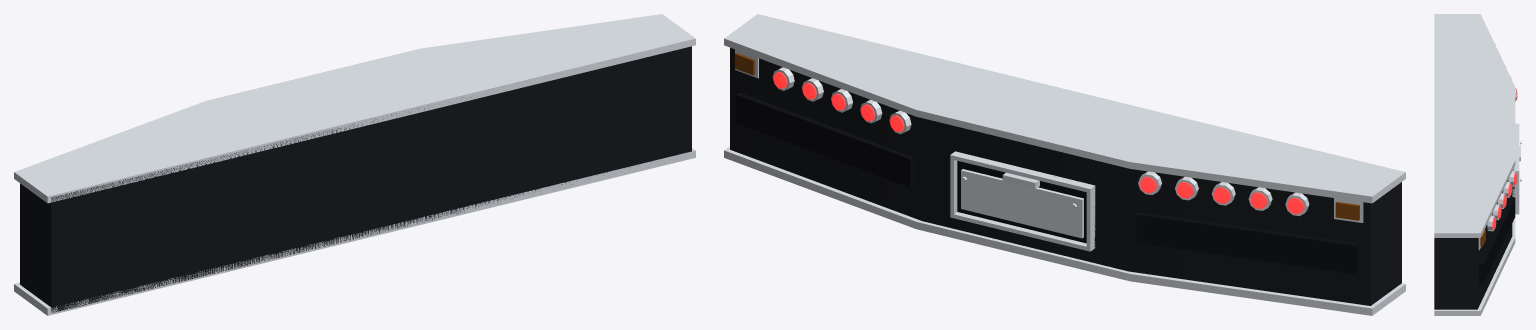
The model's file is fb_fan_red.glb.
3 renders of one model, left to right at view 1: azimuth 30°, elevation 25°; view 2: azimuth 150°, elevation 25°; view 3: azimuth 270°, elevation 25°, orthographic. The views are drawn at different scales.
Parts seen in each view (by area): view 1: fb_fan_red_MID_deco_body, fb_fan_red_TOP_chrome, fb_fan_red_TOP_deco_body, fb_fan_red_BOT_deco_body, fb_fan_red_BOT_chrome; view 2: fb_fan_red_TOP_chrome, fb_fan_red_MID_deco_body, fb_fan_red_TOP_deco_body, fb_fan_red_MID_deco_trim, fb_fan_red_BOT_deco_body, fb_fan_red_BOT_chrome, fb_fan_red_CEN_deco_plate, fb_fan_red_CEN_chrome, fb_fan_red_TOP_lamp_tail, fb_fan_red_CEN_deco_trim, fb_fan_red_TOP_deco_signal; view 3: fb_fan_red_TOP_chrome, fb_fan_red_MID_deco_body, fb_fan_red_MID_deco_trim, fb_fan_red_BOT_deco_body, fb_fan_red_TOP_deco_body, fb_fan_red_BOT_chrome, fb_fan_red_CEN_chrome, fb_fan_red_TOP_lamp_tail.
Boxes of the visible parts, box(x1,y1,x2,y2) form: fb_fan_red_MID_deco_body: box(20, 76, 691, 289); fb_fan_red_TOP_chrome: box(14, 14, 695, 203); fb_fan_red_TOP_deco_body: box(20, 46, 691, 232); fb_fan_red_BOT_deco_body: box(20, 133, 691, 312); fb_fan_red_BOT_chrome: box(14, 148, 695, 315); fb_fan_red_TOP_chrome: box(724, 14, 1405, 222); fb_fan_red_MID_deco_body: box(730, 75, 1401, 287); fb_fan_red_TOP_deco_body: box(730, 47, 1401, 230); fb_fan_red_MID_deco_trim: box(735, 92, 1358, 274); fb_fan_red_BOT_deco_body: box(730, 131, 1401, 305); fb_fan_red_BOT_chrome: box(724, 146, 1405, 315); fb_fan_red_CEN_deco_plate: box(961, 169, 1083, 238); fb_fan_red_CEN_chrome: box(950, 151, 1095, 251); fb_fan_red_TOP_lamp_tail: box(773, 71, 1304, 214); fb_fan_red_CEN_deco_trim: box(957, 161, 1095, 247); fb_fan_red_TOP_deco_signal: box(735, 53, 1359, 220); fb_fan_red_TOP_chrome: box(1434, 14, 1516, 250); fb_fan_red_MID_deco_body: box(1434, 189, 1512, 296); fb_fan_red_MID_deco_trim: box(1479, 197, 1515, 283); fb_fan_red_BOT_deco_body: box(1434, 224, 1512, 309); fb_fan_red_TOP_deco_body: box(1434, 179, 1508, 257); fb_fan_red_BOT_chrome: box(1434, 217, 1515, 315); fb_fan_red_CEN_chrome: box(1512, 123, 1521, 214); fb_fan_red_TOP_lamp_tail: box(1492, 44, 1517, 229).
Bounding box in the file's own units: 2.39 × 0.42 × 0.403.
